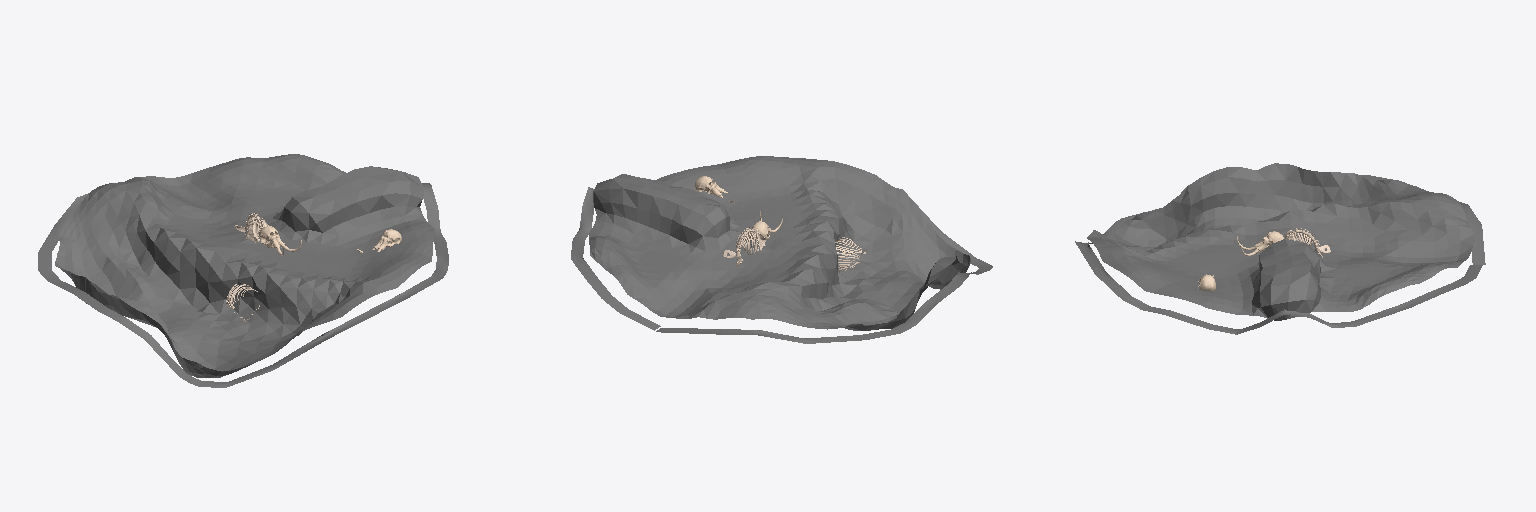
File: SceneNoTrees.obj
3 views of the same model, side by side, from view 1: azimuth 30°, elevation 25°; view 2: azimuth 150°, elevation 25°; view 3: azimuth 270°, elevation 25° (orthographic).
Visible parts, largest first — view 1: polySurface197; view 2: polySurface197; view 3: polySurface197.
Part boxes in pixels (x1,y1,x2,y2): polySurface197: (38,154,448,387); polySurface197: (571,156,992,343); polySurface197: (1075,163,1485,334).
Size of the model in its own units: 1551 by 397 by 1558.